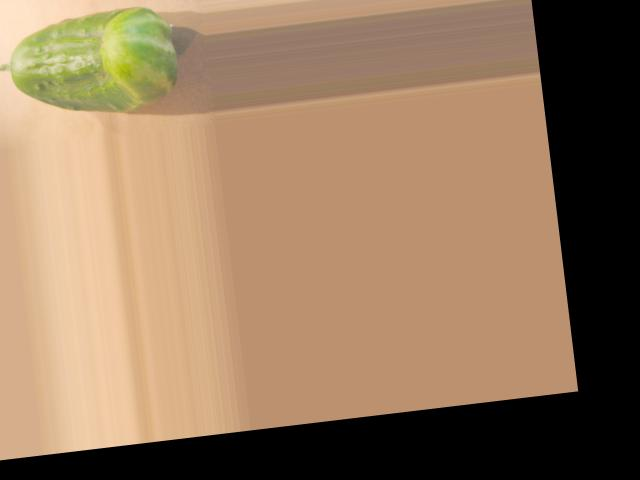cucumber: (3, 1, 181, 123)
